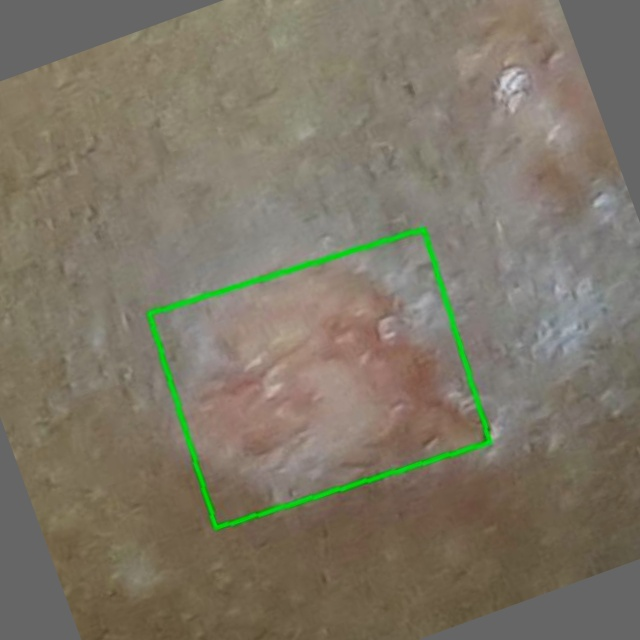Eczema: (149, 228, 490, 527)
